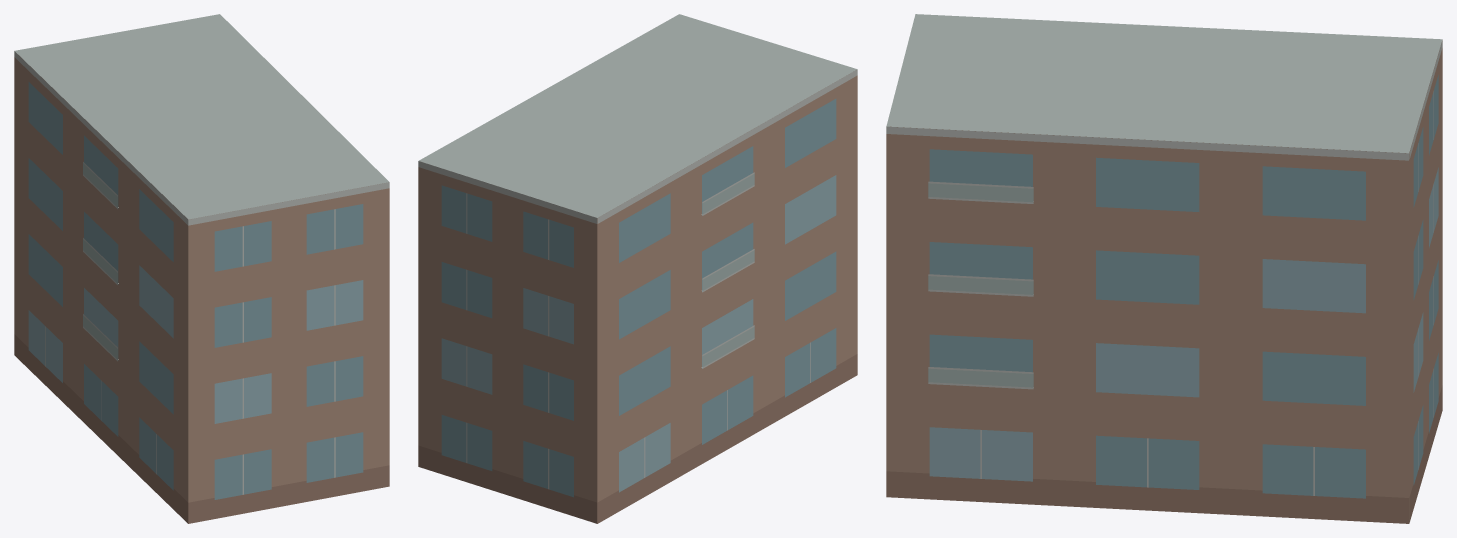
The model's file is survey-upis-32827315.glb.
The picture shows the model from 3 angles, left to right: view 1: azimuth 30°, elevation 25°; view 2: azimuth 150°, elevation 25°; view 3: azimuth 270°, elevation 25°; orthographic projection. The views are drawn at different scales.
Visible parts, largest first — view 1: survey-upis-32827315.tmp; view 2: survey-upis-32827315.tmp; view 3: survey-upis-32827315.tmp.
Boxes of the visible parts, box(x1,y1,x2,y2) form: survey-upis-32827315.tmp: box(14, 14, 389, 523); survey-upis-32827315.tmp: box(418, 14, 857, 523); survey-upis-32827315.tmp: box(886, 14, 1442, 523).
Size of the model in its own units: 9.84 by 12.2 by 16.61.
